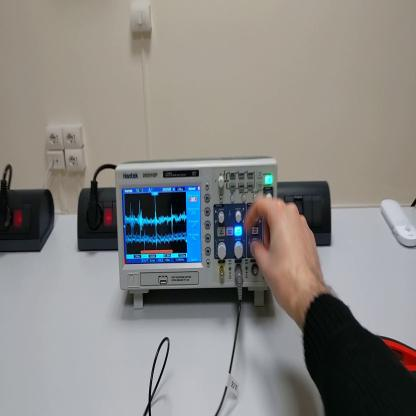hand: (246, 193, 325, 315)
oscilloscope: (115, 153, 280, 310)
pliers: (378, 333, 416, 380)
socket: (2, 180, 56, 262), (78, 188, 119, 257)
